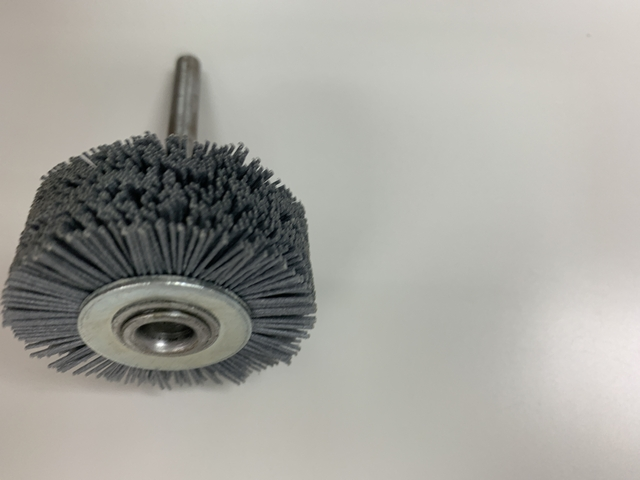Wheel Brush: (16, 27, 313, 399), (1, 37, 315, 388)
